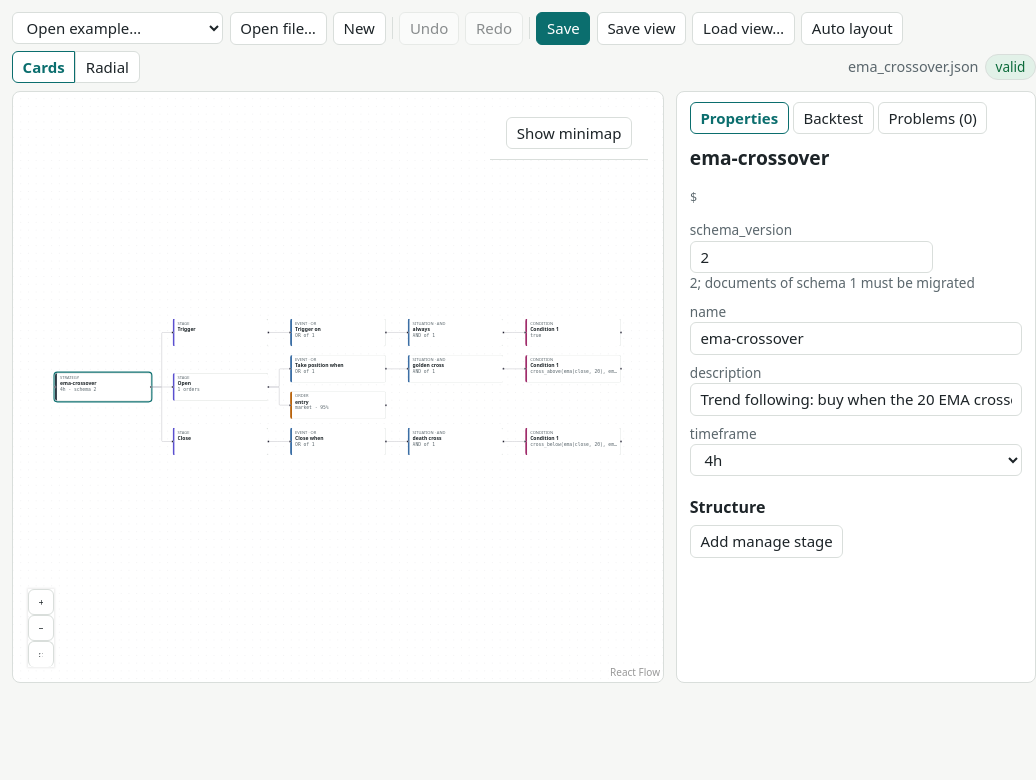
Test: designer page › backtest: the 403 reason is shown
This screenshot has width=1036, height=780.
Click the tab "Backtest": [833, 118] box [793,102,874,134]
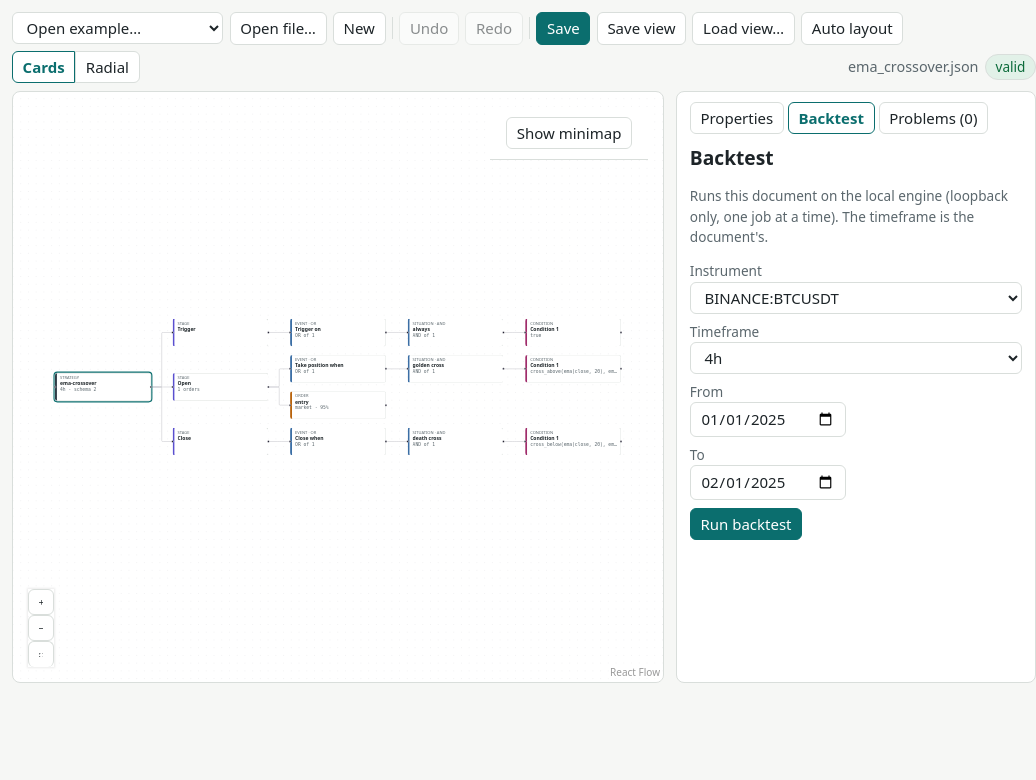
Click the button "Run backtest": [746, 524] box [690,508,802,540]
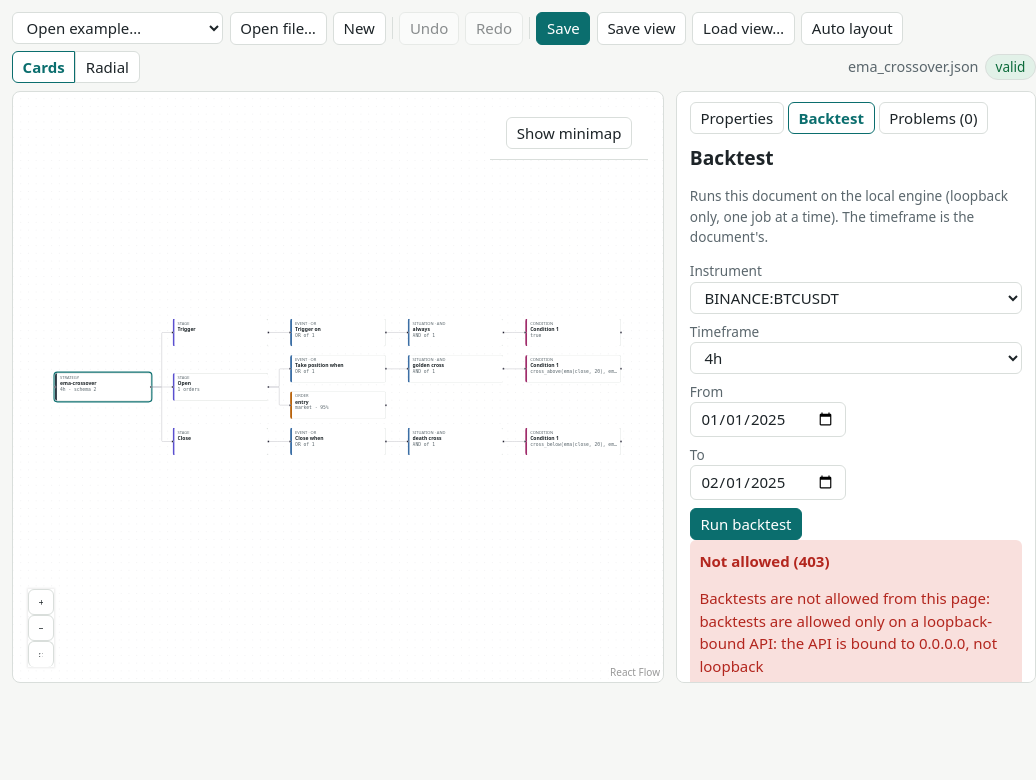
expect the element with class "error" shows "Not allowed (403)": met, box [699,551,830,571]
expect the element with class "error" shows "backtests are allowed only on a loopback-bound API: the API is bound to 0.0.0.0, not loopback": met, box [699,588,997,676]
